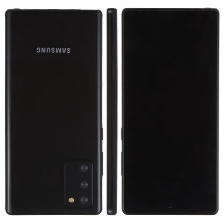phone: (119, 5, 220, 218), (2, 6, 102, 216), (105, 6, 118, 218)
